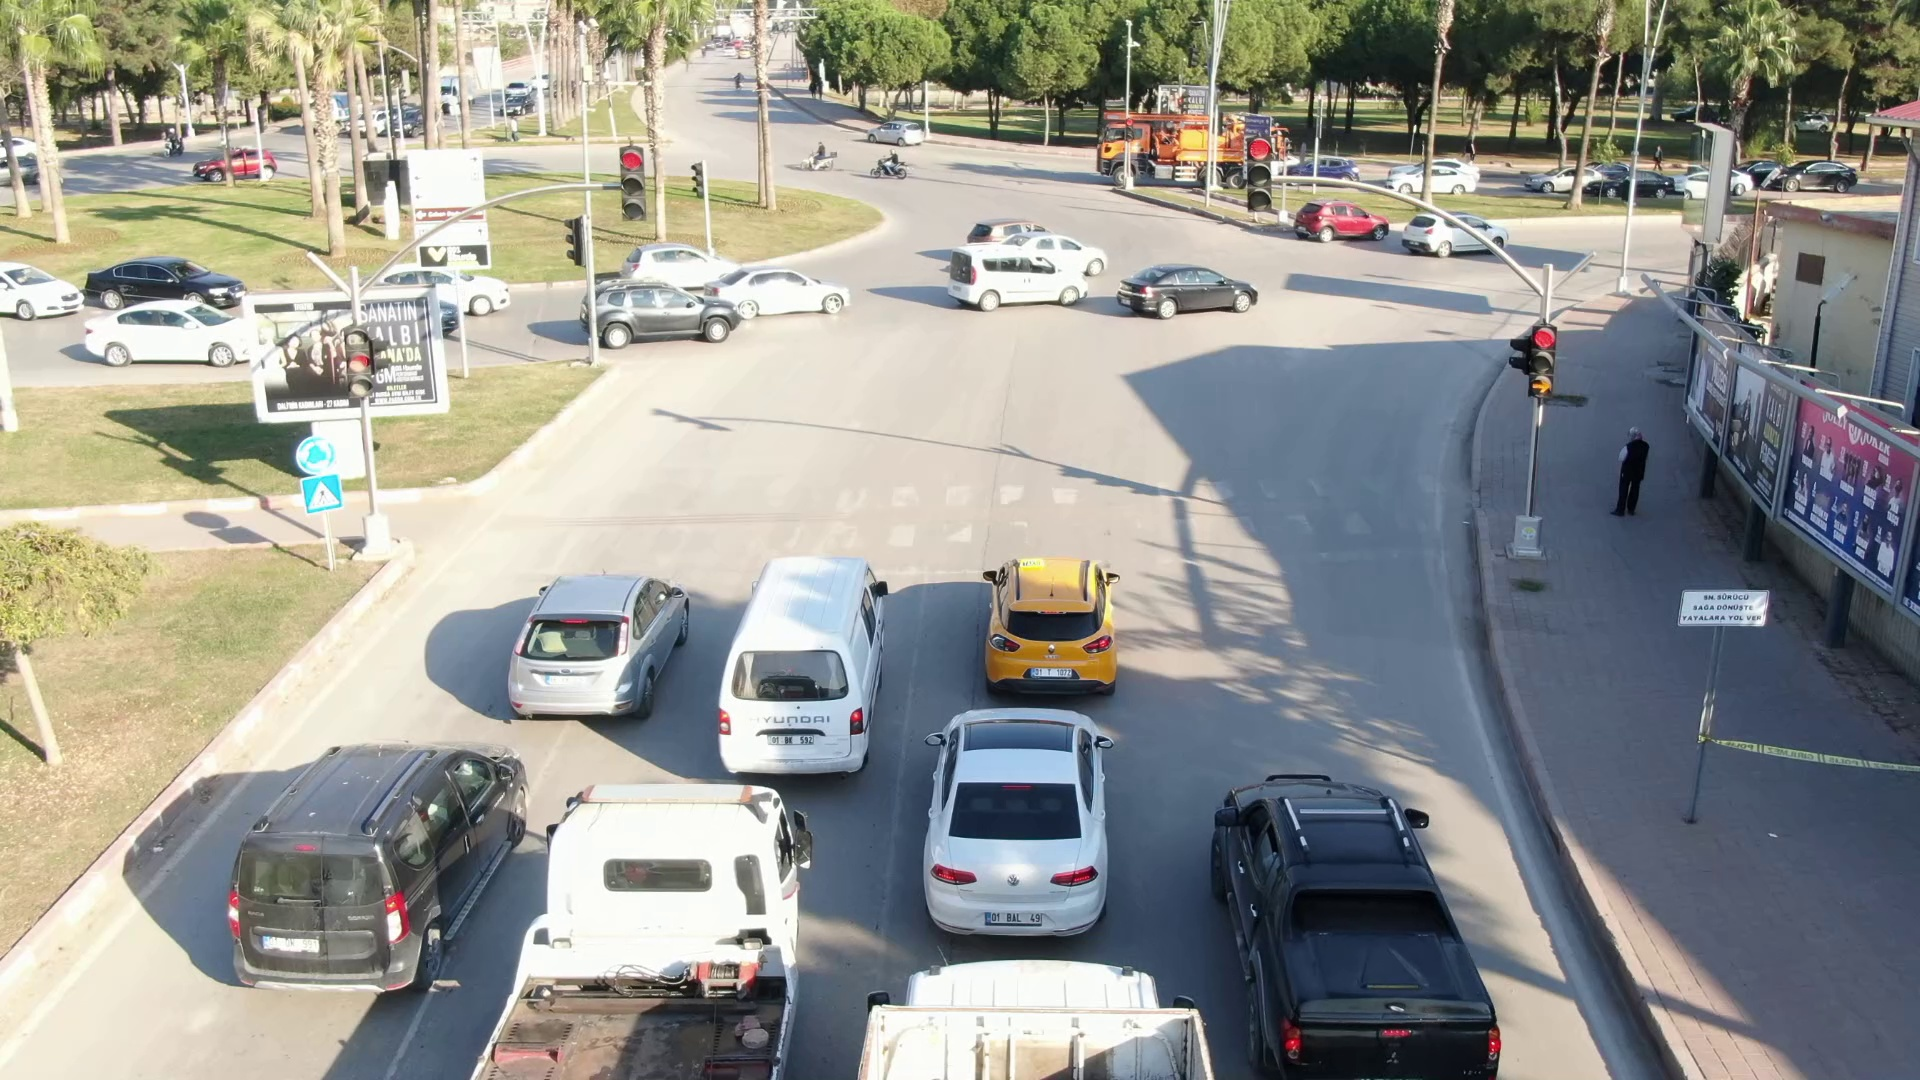car: (1204, 767, 1524, 1080), (225, 728, 535, 1004), (916, 702, 1121, 945), (709, 553, 897, 783), (504, 567, 700, 736), (981, 554, 1124, 700), (576, 276, 742, 347), (84, 297, 248, 367), (947, 241, 1088, 314), (704, 264, 858, 322), (1112, 260, 1265, 318), (1399, 208, 1509, 262), (1291, 200, 1390, 247), (191, 145, 281, 189), (1774, 160, 1859, 195), (866, 120, 926, 146)
